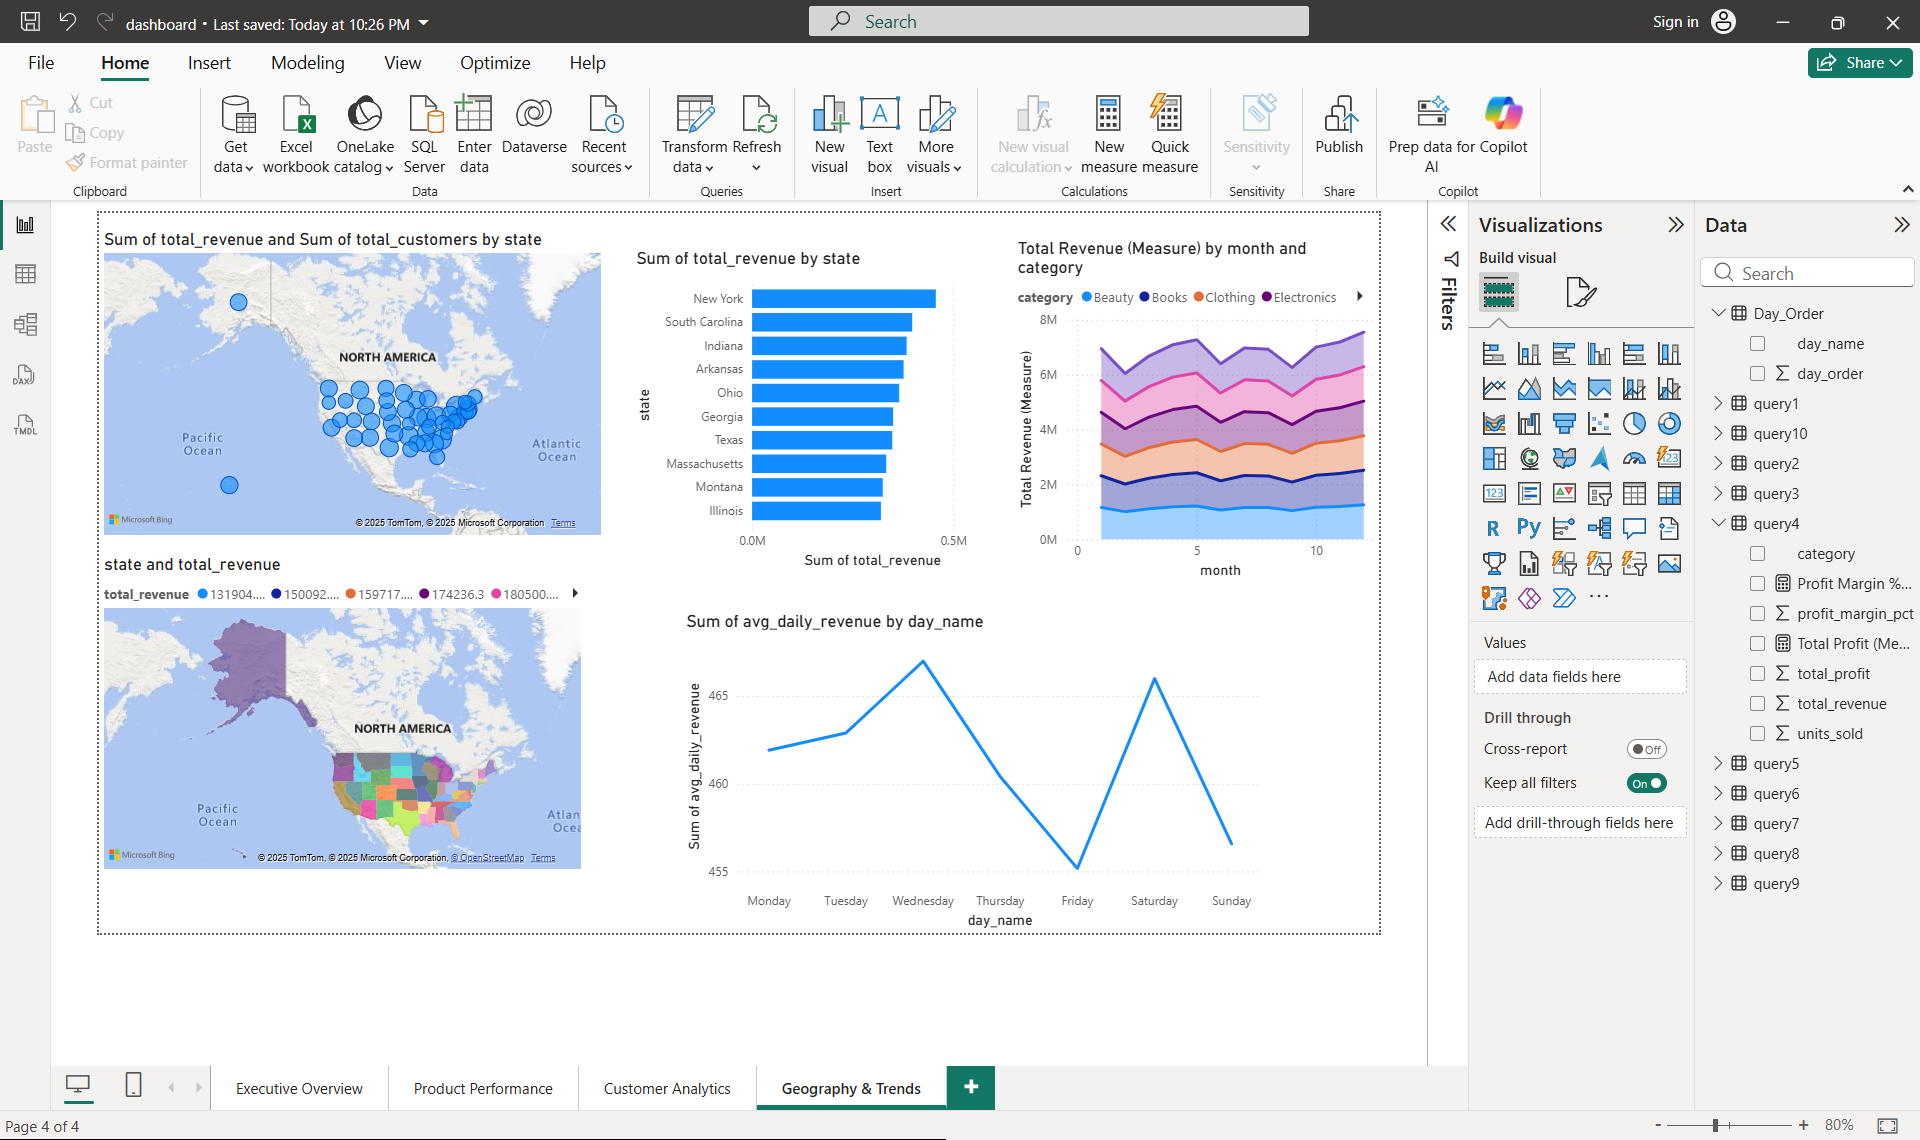

What the dashboard file says about the page in this screenshot:
{"tool":"powerbi","page":{"name":"Geography & Trends","canvas":[1280,720],"ordinal":3},"visuals":[{"type":"map","fields":{"Category":["query6.state"],"Size":["Sum(query6.total_revenue)"]},"box":[0,16.7,506.7,310],"z":0},{"type":"filledMap","fields":{"Category":["query6.state"],"Series":["query6.total_revenue"]},"box":[0,341.7,486.7,320],"z":1000},{"type":"clusteredBarChart","fields":{"Category":["query6.state"],"Y":["Sum(query6.total_revenue)"]},"box":[532.5,35,381.2,325],"z":2000},{"type":"lineChart","fields":{"Y":["Sum(query9.avg_daily_revenue)"],"Category":["Day_Order.day_name"]},"box":[582.5,397.5,586.2,322.5],"z":3000},{"type":"stackedAreaChart","fields":{"Category":["query2.month"],"Y":["query2.Total Revenue (Measure)"],"Series":["query4.category"]},"box":[913.8,25,366.2,345],"z":4000}]}

Visuals, with their boxes on the page's 1280x720 design canvas (x1, y1, x2, y2). These are canvas units, not pixel positions in the 1920x1140 screenshot, which may show the page scaled, cropped or inside an application window:
map - query6.state x Sum(query6.total_revenue): bbox=[0, 17, 507, 327]
filledMap - query6.state x query6.total_revenue: bbox=[0, 342, 487, 662]
clusteredBarChart - query6.state x Sum(query6.total_revenue): bbox=[532, 35, 914, 360]
lineChart - Sum(query9.avg_daily_revenue) x Day_Order.day_name: bbox=[582, 398, 1169, 720]
stackedAreaChart - query2.month x query2.Total Revenue (Measure): bbox=[914, 25, 1280, 370]
